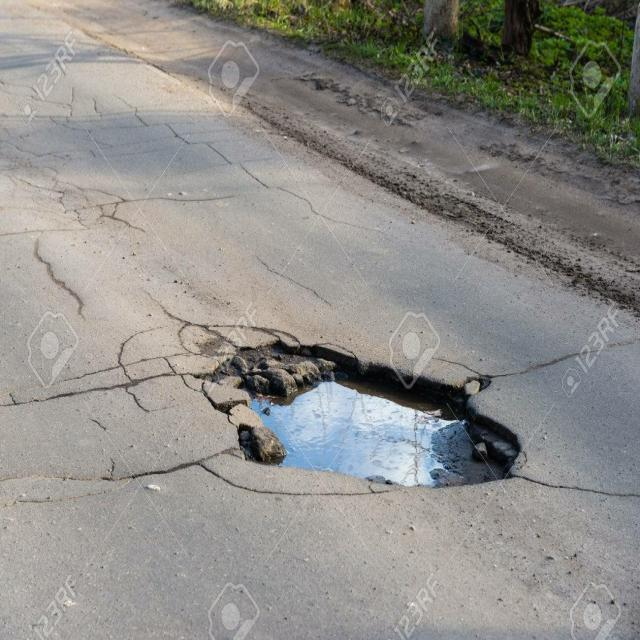Pothole: (191, 337, 522, 489)
